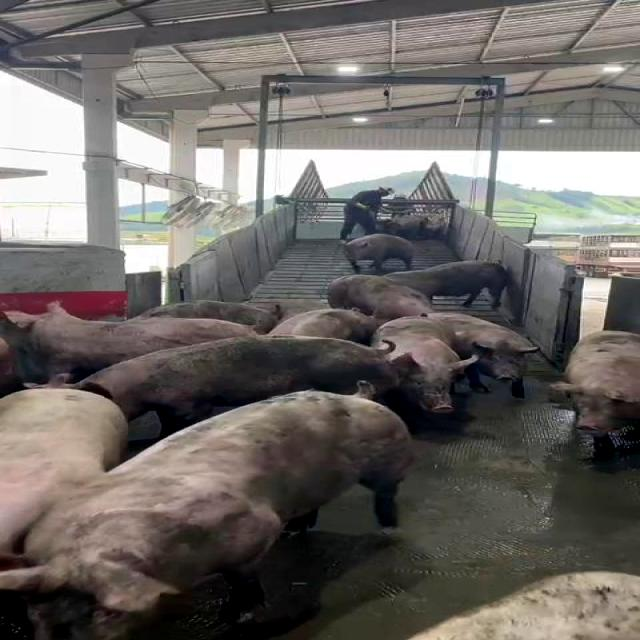pig: (2, 390, 412, 639), (78, 336, 399, 434), (0, 389, 128, 556), (30, 302, 257, 378), (410, 571, 639, 640), (552, 330, 640, 458), (374, 316, 477, 412), (429, 312, 539, 398), (385, 261, 509, 308), (138, 300, 277, 334), (330, 276, 433, 321), (270, 309, 380, 344), (341, 234, 415, 273)
